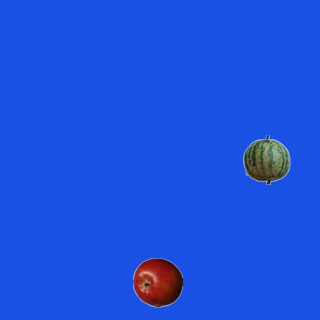Apple Braeburn: (132, 257, 182, 307)
Watermelon: (241, 134, 291, 184)
